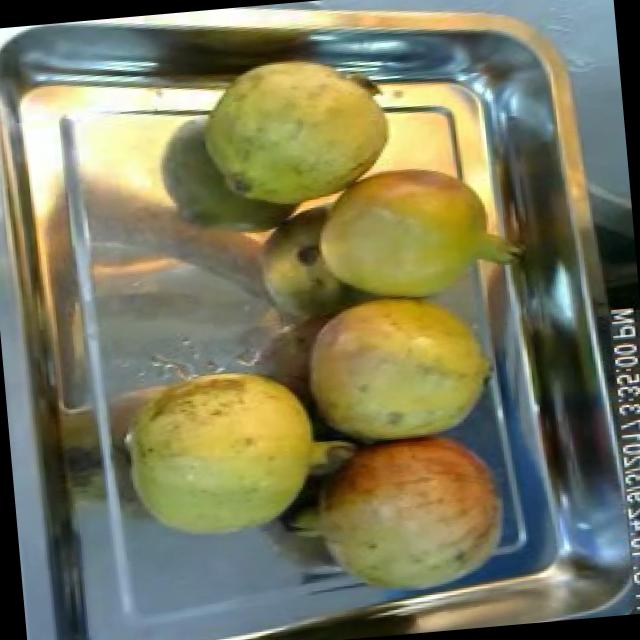fruit: (104, 342, 341, 548), (276, 418, 518, 606), (182, 38, 412, 224), (290, 276, 512, 454), (286, 146, 510, 318)
